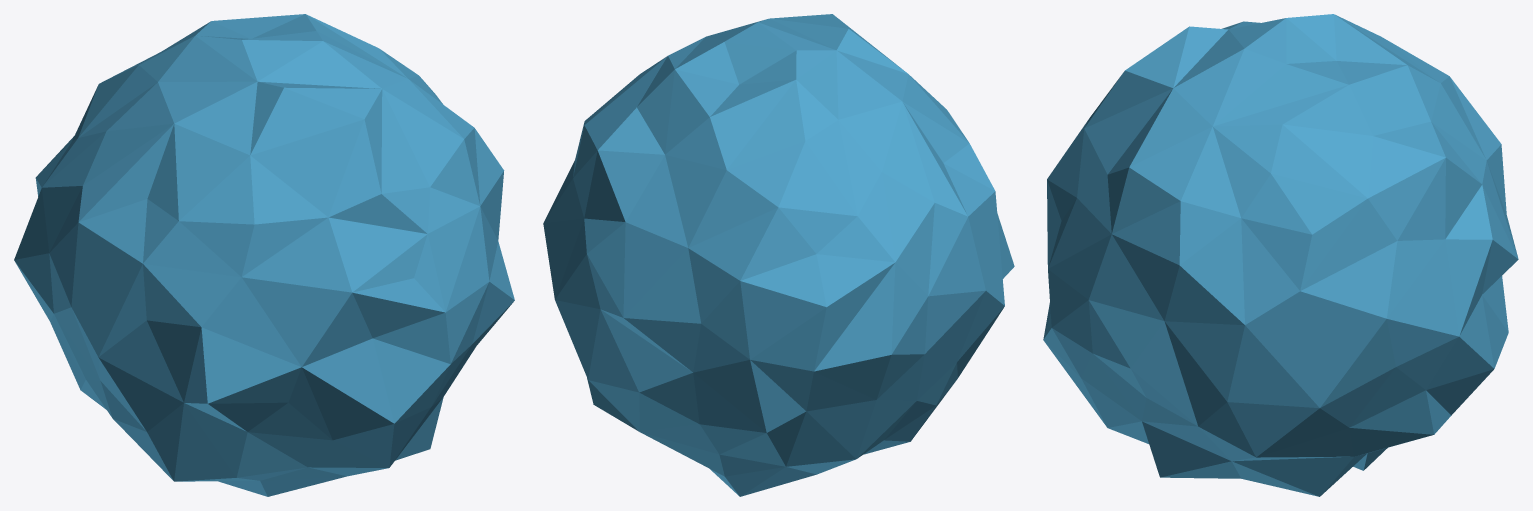
Rendered from icy_planet1.fbx.
The picture shows the model from 3 angles, left to right: view 1: azimuth 30°, elevation 25°; view 2: azimuth 150°, elevation 25°; view 3: azimuth 270°, elevation 25°; orthographic projection. The views are drawn at different scales.
Parts seen in each view (by area): view 1: icy_planet1; view 2: icy_planet1; view 3: icy_planet1.
Boxes of the visible parts, <box> form: icy_planet1: <box>14,14,514,496</box>; icy_planet1: <box>543,14,1014,496</box>; icy_planet1: <box>1043,14,1518,496</box>.
Size of the model in its own units: 190 by 193 by 187.
